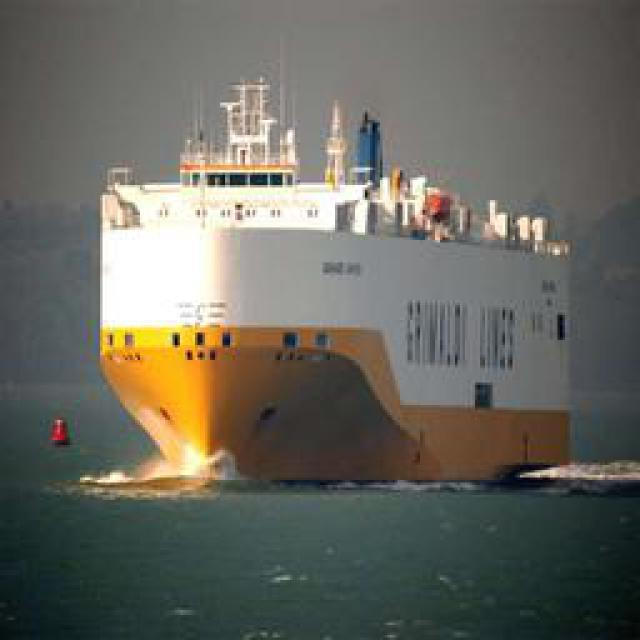Ship: (81, 87, 586, 497)
